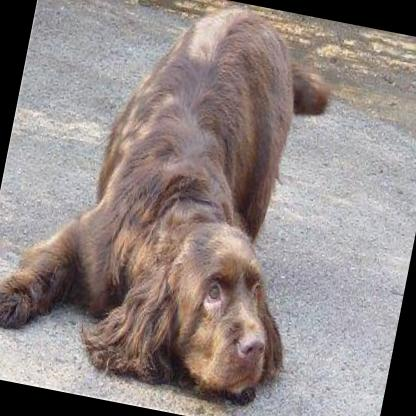Sussex_spaniel: (0, 0, 346, 403)
